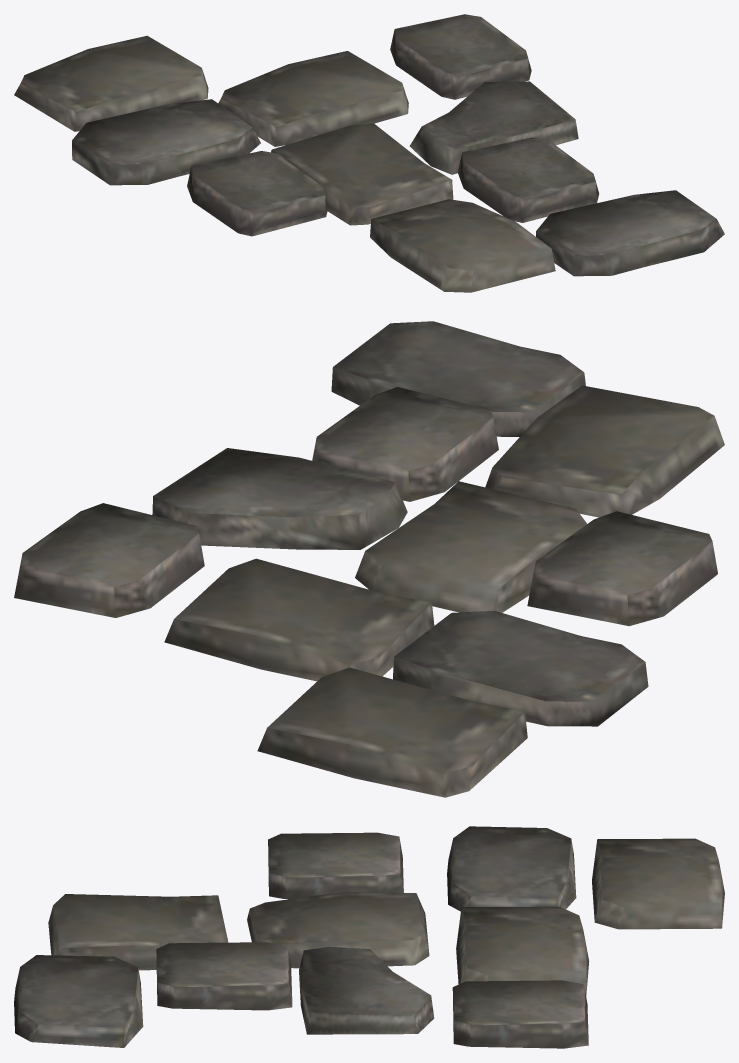
Rendered from SC_SLstone08.FBX.
3 renders of one model, top to bottom at view 1: azimuth 30°, elevation 25°; view 2: azimuth 150°, elevation 25°; view 3: azimuth 270°, elevation 25°, orthographic. The views are drawn at different scales.
Parts seen in each view (by area): view 1: SC_SLstone08; view 2: SC_SLstone08; view 3: SC_SLstone08.
Boxes of the visible parts, box(x1,y1,x2,y2) form: SC_SLstone08: box(14, 14, 724, 292); SC_SLstone08: box(14, 321, 724, 797); SC_SLstone08: box(14, 826, 724, 1048).
Size of the model in its own units: 1.49 by 0.1142 by 2.1.
